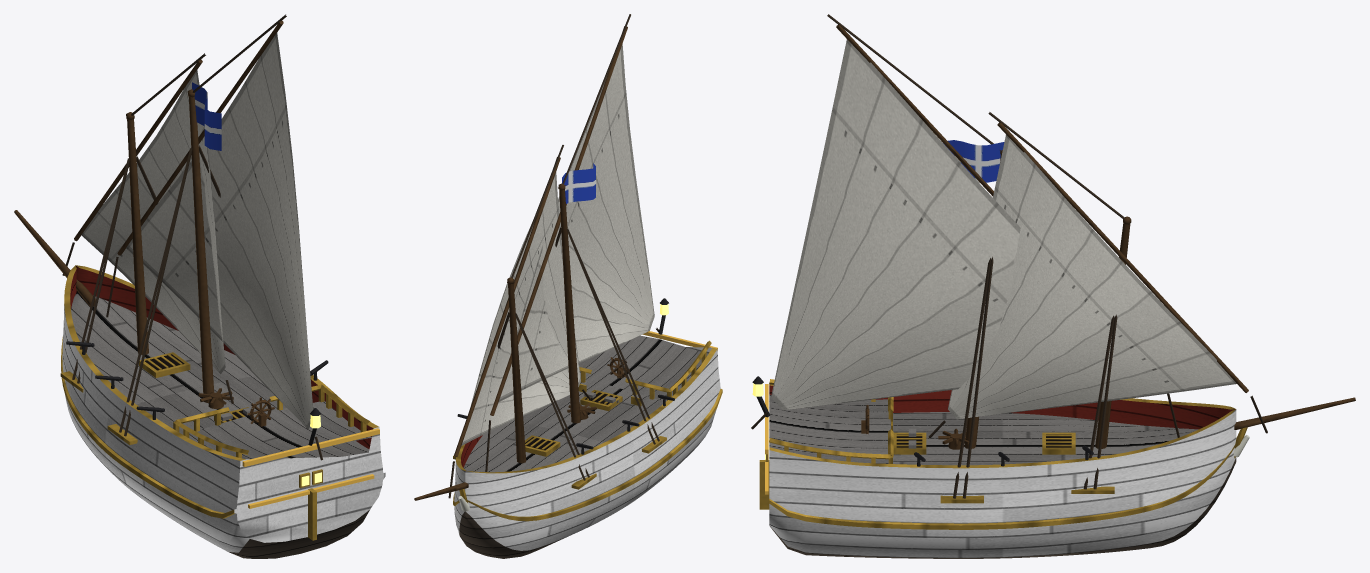
The model's file is enemy_skirmisher.glb.
3 views of the same model, side by side, from view 1: azimuth 30°, elevation 25°; view 2: azimuth 150°, elevation 25°; view 3: azimuth 270°, elevation 25° (orthographic). The views are drawn at different scales.
Parts seen in each view (by area): view 1: Hull, Sail1_0, Rigging, Sail0_0, Flag, Guns0; view 2: Hull, Sail1_0, Rigging, Sail0_0, Flag; view 3: Hull, Sail1_0, Sail0_0, Rigging, Flag.
Boxes of the visible parts, <box> form: Hull: <box>60,265,385,558</box>; Sail1_0: <box>126,32,313,428</box>; Rigging: <box>14,14,322,460</box>; Sail0_0: <box>81,70,225,373</box>; Flag: <box>192,82,221,150</box>; Guns0: <box>66,341,328,419</box>; Hull: <box>453,298,722,558</box>; Sail1_0: <box>498,44,654,401</box>; Rigging: <box>414,14,659,500</box>; Sail0_0: <box>461,172,580,445</box>; Flag: <box>562,163,595,203</box>; Hull: <box>752,376,1249,558</box>; Sail1_0: <box>771,39,1020,410</box>; Sail0_0: <box>948,134,1236,419</box>; Rigging: <box>751,14,1355,498</box>; Flag: <box>943,140,1004,182</box>.
Bounding box in the file's own units: 0.7057 × 1.87 × 1.94.
Materials: 15 (8 with a texture image).
